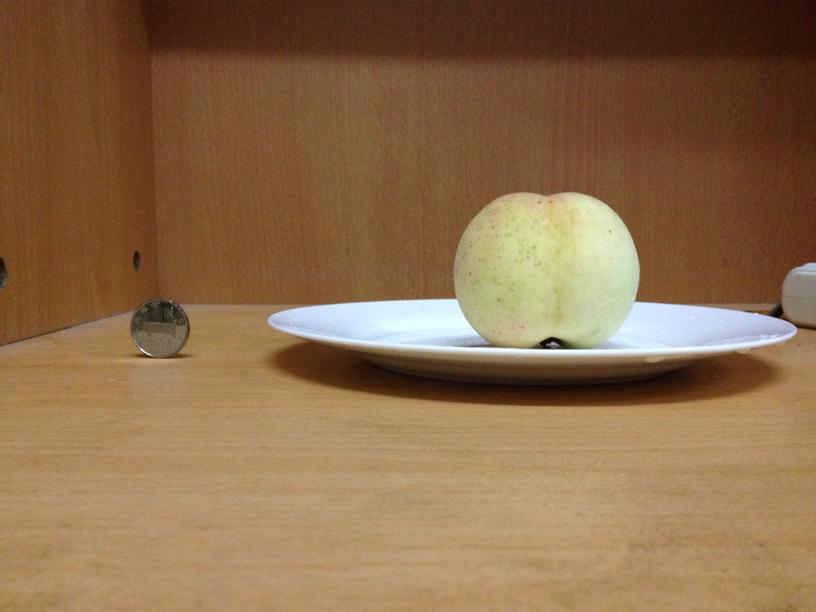coin: (127, 298, 191, 357)
peach: (448, 188, 640, 348)
